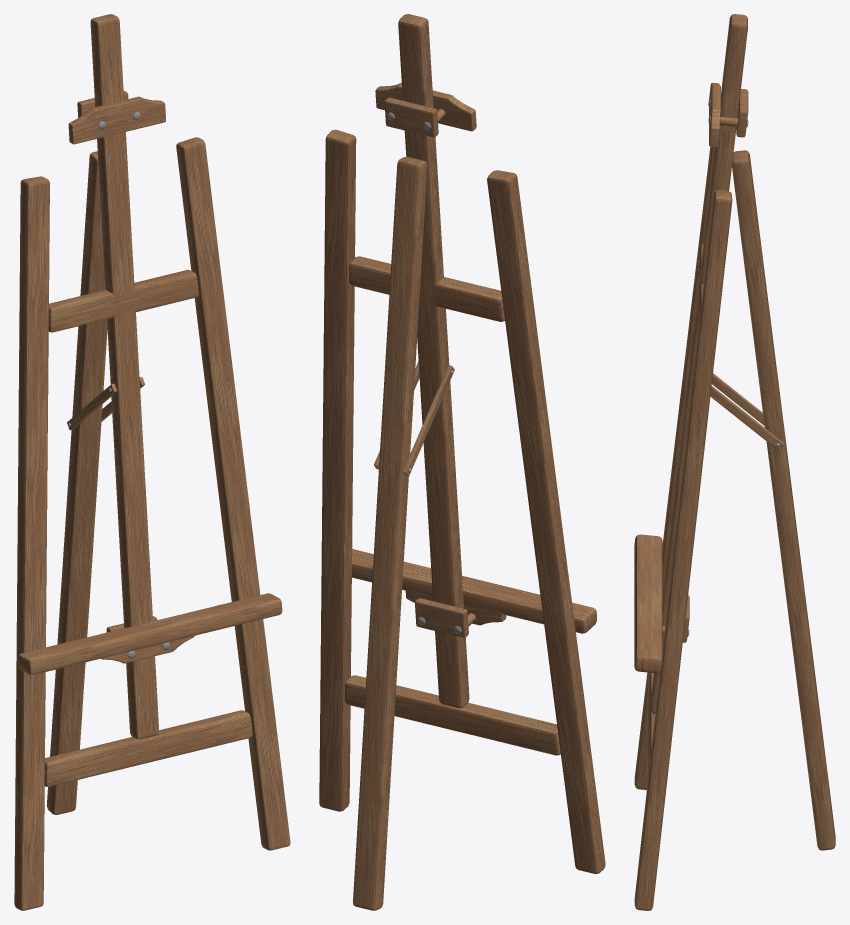
The model's file is Easel.fbx.
3 views of the same model, side by side, from view 1: azimuth 30°, elevation 25°; view 2: azimuth 150°, elevation 25°; view 3: azimuth 270°, elevation 25° (orthographic). The views are drawn at different scales.
Parts seen in each view (by area): view 1: Easel; view 2: Easel; view 3: Easel.
Boxes of the visible parts, bbox=[...] form: Easel: bbox=[14, 14, 290, 910]; Easel: bbox=[319, 14, 605, 910]; Easel: bbox=[634, 14, 835, 910].
Size of the model in its own units: 1.71 by 4.98 by 1.1.
